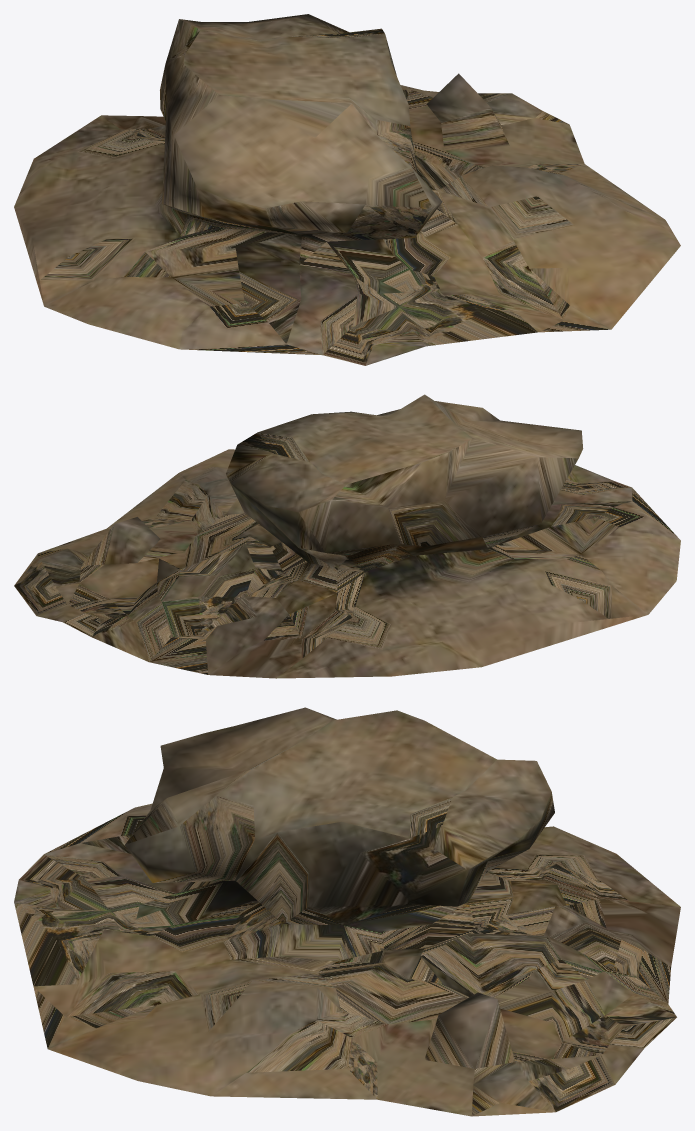
3 renders of one model, top to bottom at view 1: azimuth 30°, elevation 25°; view 2: azimuth 150°, elevation 25°; view 3: azimuth 270°, elevation 25°, orthographic. The views are drawn at different scales.
Visible parts, largest first — view 1: coast_rocks_05_lod2; view 2: coast_rocks_05_lod2; view 3: coast_rocks_05_lod2.
Boxes of the visible parts, bbox=[...] form: coast_rocks_05_lod2: bbox=[14, 14, 680, 365]; coast_rocks_05_lod2: bbox=[14, 394, 680, 678]; coast_rocks_05_lod2: bbox=[14, 707, 680, 1116].
Size of the model in its own units: 4.03 by 1.3 by 3.74.
1 material, 1 textured.
